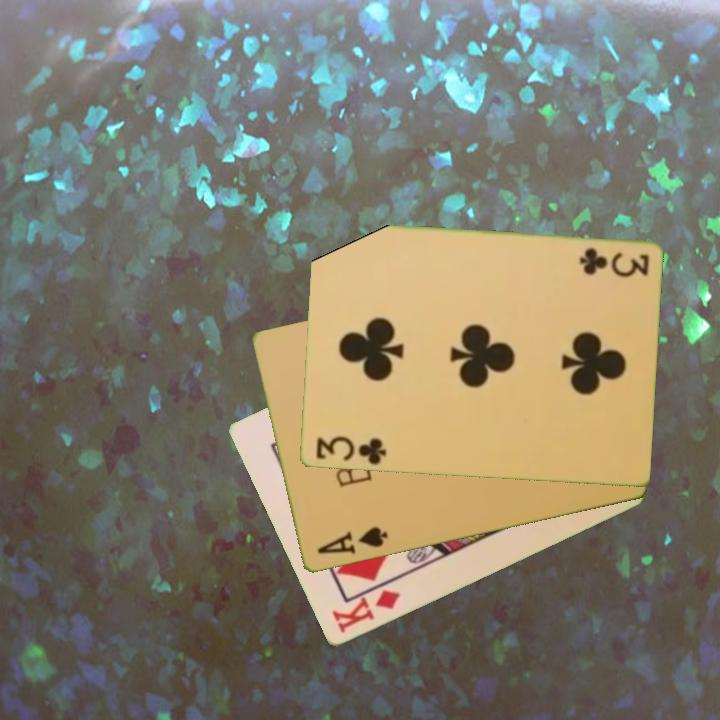3c: (312, 433, 389, 468), (576, 244, 652, 278)
As: (313, 523, 391, 558)
Kd: (328, 586, 404, 637)
